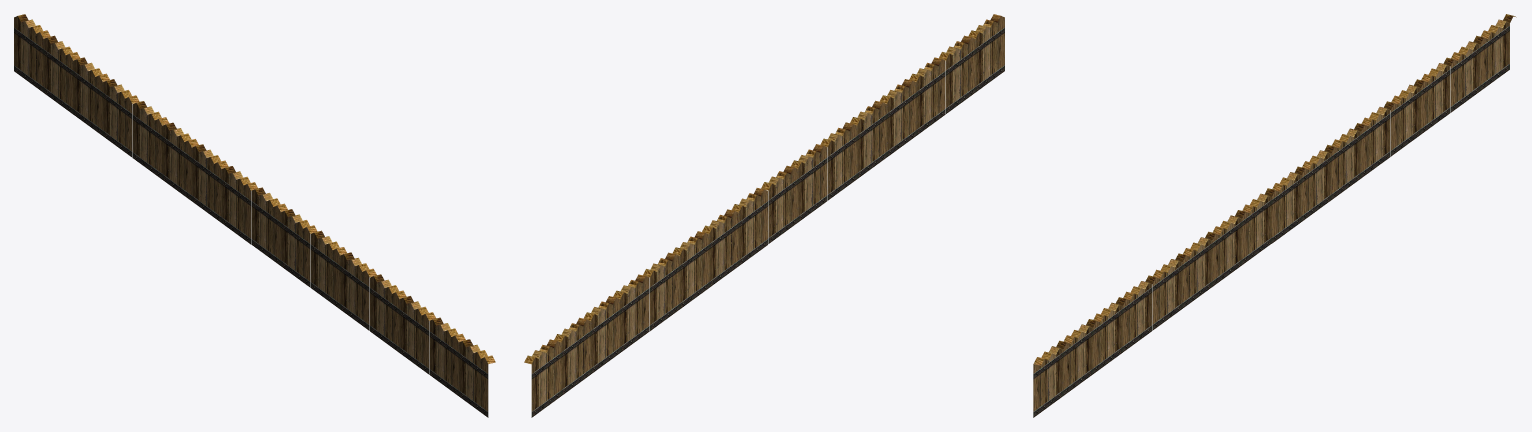
The model's file is Cerca.obj.
3 renders of one model, left to right at view 1: azimuth 30°, elevation 25°; view 2: azimuth 150°, elevation 25°; view 3: azimuth 330°, elevation 25°, orthographic.
Visible parts, largest first — view 1: Cerca.001_geom-03D75826.006_material-0392649D.005, Cerca.001_geom-03D75826.006_material-0392649D.011, Cerca.001_geom-03D75826.006_material-0392649D.010, Cerca.001_geom-03D75826.006_material-0392649D.007, Cerca.001_geom-03D75826.006_material-0392649D, Cerca.001_geom-03D75826.006_material-0392649D.008, Cerca.001_geom-03D75826.006_material-0392649D.006, Cerca.001_geom-03D75826.006_material-0392649D.009, Cerca.001_geom-03D75826.006_material-0151D5D9.008, Cerca.001_geom-03D75826.006_material-0151D5D9.009, Cerca.001_geom-03D75826.006_material-0151D5D9.011, Cerca.001_geom-03D75826.006_material-0151D5D9.005 (+4 smaller); view 2: Cerca.001_geom-03D75826.006_material-0392649D, Cerca.001_geom-03D75826.006_material-0392649D.011, Cerca.001_geom-03D75826.006_material-0392649D.010, Cerca.001_geom-03D75826.006_material-0392649D.009, Cerca.001_geom-03D75826.006_material-0392649D.005, Cerca.001_geom-03D75826.006_material-0392649D.006, Cerca.001_geom-03D75826.006_material-0392649D.008, Cerca.001_geom-03D75826.006_material-0392649D.007, Cerca.001_geom-03D75826.006_material-0151D5D9, Cerca.001_geom-03D75826.006_material-0151D5D9.011, Cerca.001_geom-03D75826.006_material-0151D5D9.005, Cerca.001_geom-03D75826.006_material-0151D5D9.010 (+4 smaller); view 3: Cerca.001_geom-03D75826.006_material-0392649D.006, Cerca.001_geom-03D75826.006_material-0392649D.008, Cerca.001_geom-03D75826.006_material-0392649D, Cerca.001_geom-03D75826.006_material-0392649D.010, Cerca.001_geom-03D75826.006_material-0392649D.009, Cerca.001_geom-03D75826.006_material-0392649D.007, Cerca.001_geom-03D75826.006_material-0392649D.005, Cerca.001_geom-03D75826.006_material-0392649D.011, Cerca.001_geom-03D75826.006_material-0151D5D9.008, Cerca.001_geom-03D75826.006_material-0151D5D9.011, Cerca.001_geom-03D75826.006_material-0151D5D9.005, Cerca.001_geom-03D75826.006_material-0151D5D9.009 (+4 smaller).
Boxes of the visible parts, box(x1,y1,x2,y2) form: Cerca.001_geom-03D75826.006_material-0392649D.005: box(73, 59, 132, 157); Cerca.001_geom-03D75826.006_material-0392649D.011: box(310, 232, 369, 330); Cerca.001_geom-03D75826.006_material-0392649D.010: box(251, 189, 310, 287); Cerca.001_geom-03D75826.006_material-0392649D.007: box(132, 103, 191, 200); Cerca.001_geom-03D75826.006_material-0392649D: box(14, 16, 73, 114); Cerca.001_geom-03D75826.006_material-0392649D.008: box(429, 319, 488, 417); Cerca.001_geom-03D75826.006_material-0392649D.006: box(192, 146, 250, 244); Cerca.001_geom-03D75826.006_material-0392649D.009: box(370, 276, 428, 374); Cerca.001_geom-03D75826.006_material-0151D5D9.008: box(433, 317, 495, 363); Cerca.001_geom-03D75826.006_material-0151D5D9.009: box(374, 274, 436, 320); Cerca.001_geom-03D75826.006_material-0151D5D9.011: box(314, 230, 376, 277); Cerca.001_geom-03D75826.006_material-0151D5D9.005: box(77, 57, 139, 103); Cerca.001_geom-03D75826.006_material-0392649D: box(531, 319, 590, 417); Cerca.001_geom-03D75826.006_material-0392649D.011: box(827, 102, 886, 200); Cerca.001_geom-03D75826.006_material-0392649D.010: box(768, 146, 827, 243); Cerca.001_geom-03D75826.006_material-0392649D.009: box(886, 59, 945, 157); Cerca.001_geom-03D75826.006_material-0392649D.005: box(590, 276, 649, 374); Cerca.001_geom-03D75826.006_material-0392649D.006: box(709, 189, 767, 287); Cerca.001_geom-03D75826.006_material-0392649D.008: box(946, 16, 1004, 113); Cerca.001_geom-03D75826.006_material-0392649D.007: box(650, 233, 708, 330); Cerca.001_geom-03D75826.006_material-0151D5D9: box(524, 317, 586, 364); Cerca.001_geom-03D75826.006_material-0151D5D9.011: box(820, 100, 882, 147); Cerca.001_geom-03D75826.006_material-0151D5D9.005: box(583, 274, 645, 320); Cerca.001_geom-03D75826.006_material-0151D5D9.010: box(761, 144, 823, 190); Cerca.001_geom-03D75826.006_material-0392649D.006: box(1271, 152, 1331, 243); Cerca.001_geom-03D75826.006_material-0392649D.008: box(1033, 327, 1092, 417); Cerca.001_geom-03D75826.006_material-0392649D: box(1450, 22, 1509, 112); Cerca.001_geom-03D75826.006_material-0392649D.010: box(1212, 196, 1271, 286); Cerca.001_geom-03D75826.006_material-0392649D.009: box(1093, 283, 1152, 373); Cerca.001_geom-03D75826.006_material-0392649D.007: box(1331, 109, 1390, 199); Cerca.001_geom-03D75826.006_material-0392649D.005: box(1391, 65, 1450, 156); Cerca.001_geom-03D75826.006_material-0392649D.011: box(1152, 239, 1211, 330); Cerca.001_geom-03D75826.006_material-0151D5D9.008: box(1033, 319, 1098, 365); Cerca.001_geom-03D75826.006_material-0151D5D9.011: box(1153, 231, 1218, 278); Cerca.001_geom-03D75826.006_material-0151D5D9.005: box(1391, 57, 1456, 104); Cerca.001_geom-03D75826.006_material-0151D5D9.009: box(1093, 275, 1158, 322).
Size of the model in its own units: 0.164 by 1.21 by 17.76.
